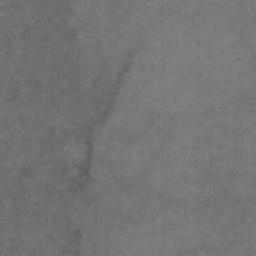Water spot: (0, 0, 142, 256)
